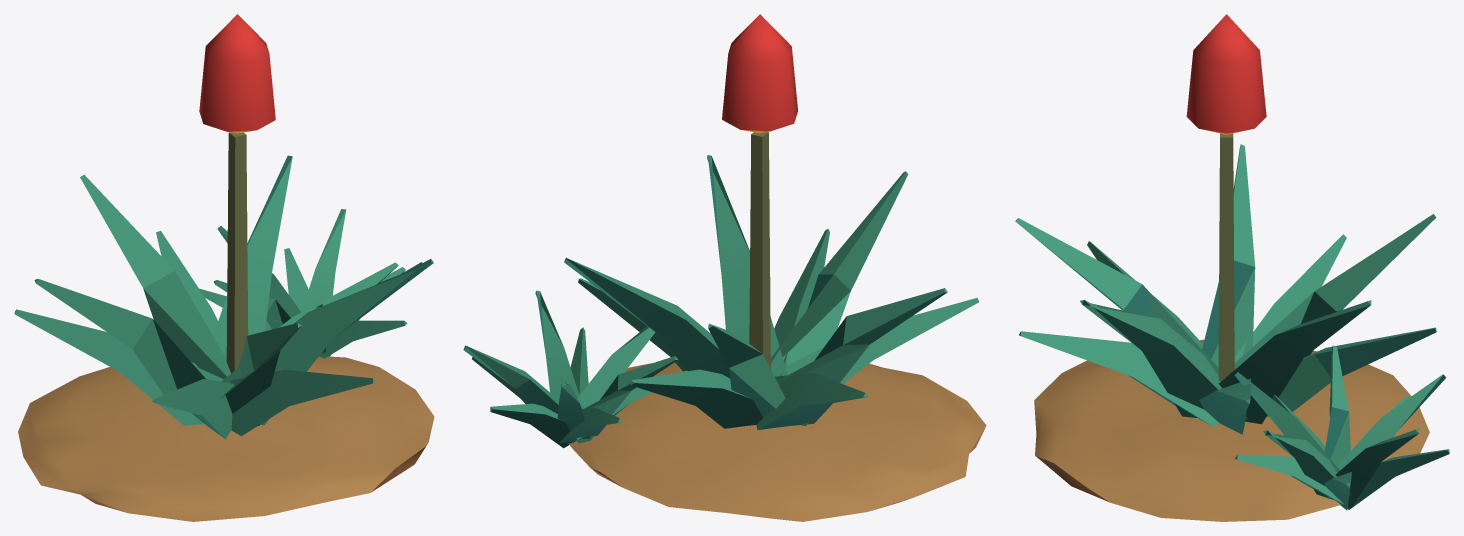
File: AloePlant.fbx
3 renders of one model, left to right at view 1: azimuth 30°, elevation 25°; view 2: azimuth 150°, elevation 25°; view 3: azimuth 270°, elevation 25°, orthographic.
Visible parts, largest first — view 1: AloePlant; view 2: AloePlant; view 3: AloePlant.
Boxes of the visible parts, left/top/right/bottom form: AloePlant: left=14, top=14, right=434, bottom=521; AloePlant: left=463, top=14, right=986, bottom=521; AloePlant: left=1015, top=14, right=1449, bottom=521.
Bounding box in the file's own units: 0.9774 × 0.9333 × 0.8471.
1 material, 1 textured.
